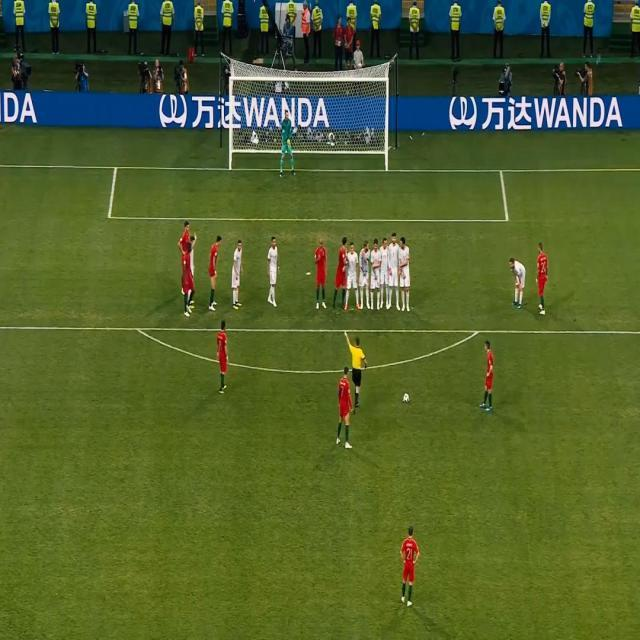ball: (403, 391, 412, 405)
goalkeeper: (279, 107, 293, 180)
player: (397, 523, 422, 609), (334, 360, 356, 449), (477, 339, 496, 412), (206, 234, 223, 312), (386, 230, 402, 311), (333, 238, 350, 314), (214, 320, 230, 394), (507, 253, 528, 308), (357, 241, 372, 313), (314, 237, 328, 312), (345, 241, 359, 316), (535, 241, 549, 316), (182, 243, 196, 317), (266, 235, 280, 309), (399, 235, 412, 313), (230, 240, 244, 309), (369, 238, 381, 311), (379, 237, 391, 309), (178, 220, 192, 248)
referee: (344, 333, 369, 411)
